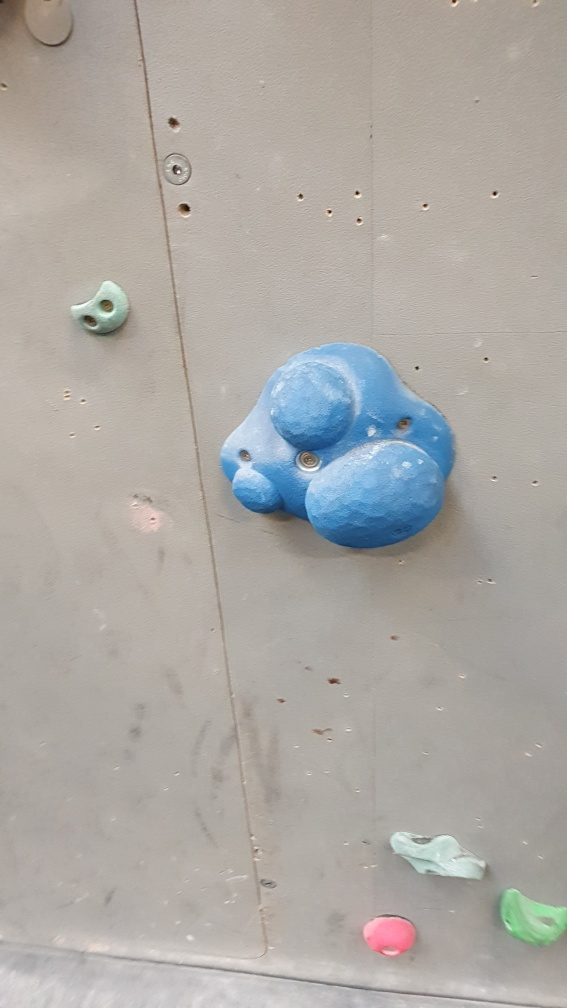Sloper: (218, 337, 459, 552)
